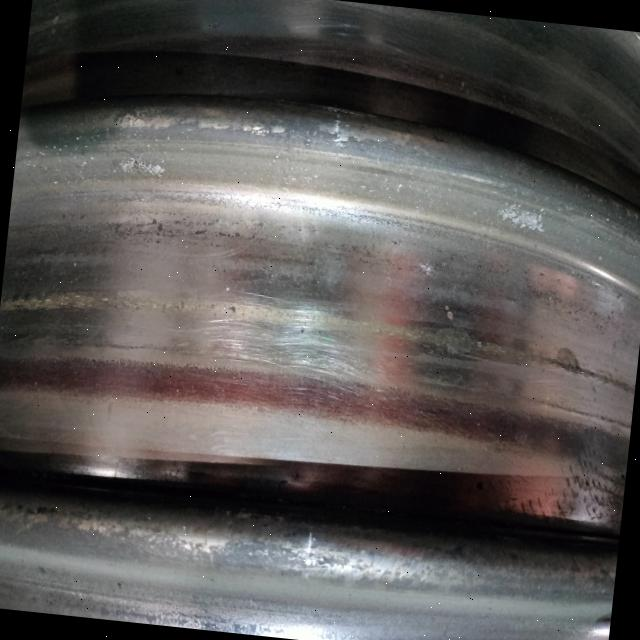flat: (146, 279, 383, 400)
